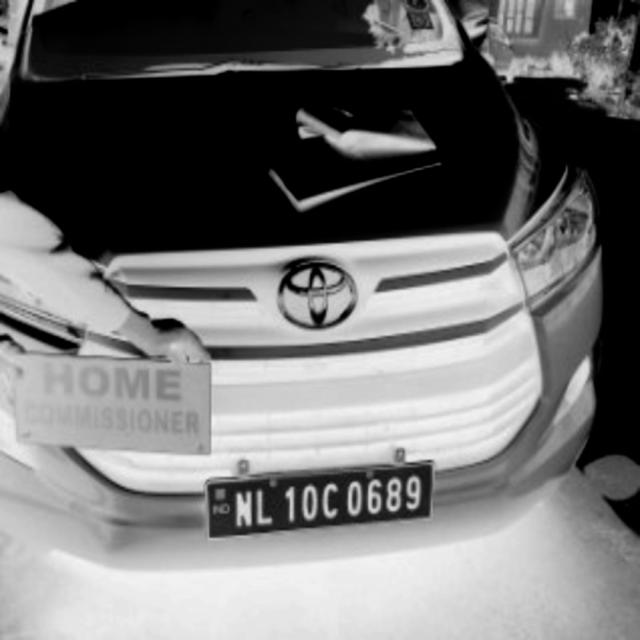0: (345, 478, 365, 521), (302, 482, 320, 524)
1: (281, 484, 300, 526)
6: (366, 477, 385, 517)
8: (385, 475, 402, 516)
9: (403, 471, 424, 513)
C: (322, 482, 341, 520)
IND: (209, 486, 231, 518)
Indian_registered: (206, 462, 432, 538)
L: (254, 486, 276, 529)
N: (233, 486, 255, 530)
